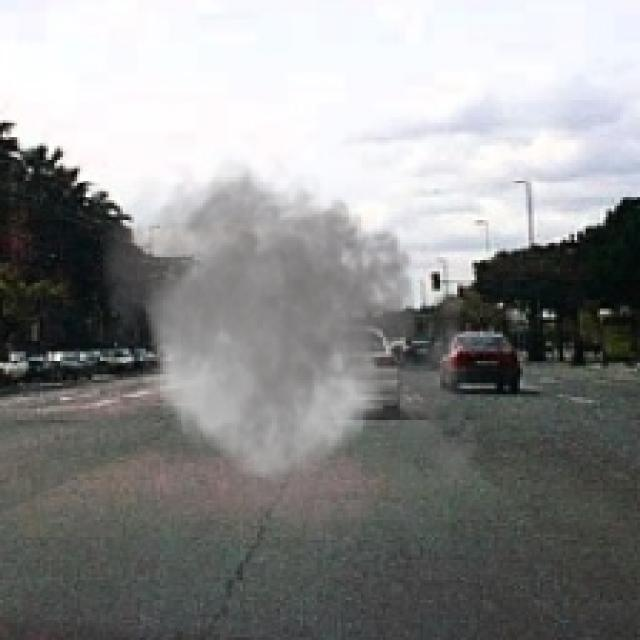smoke: (86, 146, 491, 551)
